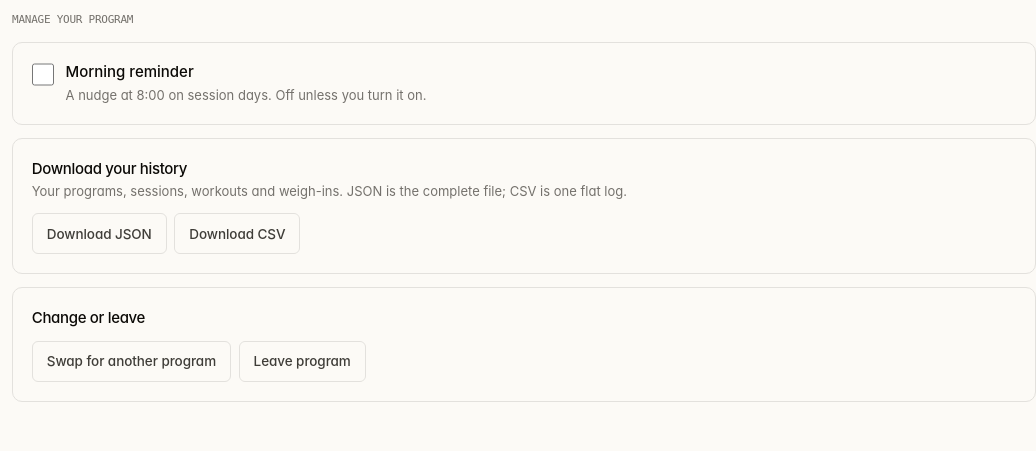
Test: StarterManage › shows an export failure
The width and height of the screenshot is (1036, 451).
Click the button "Download CSV" at x=237, y=234, box [174,213,300,254]
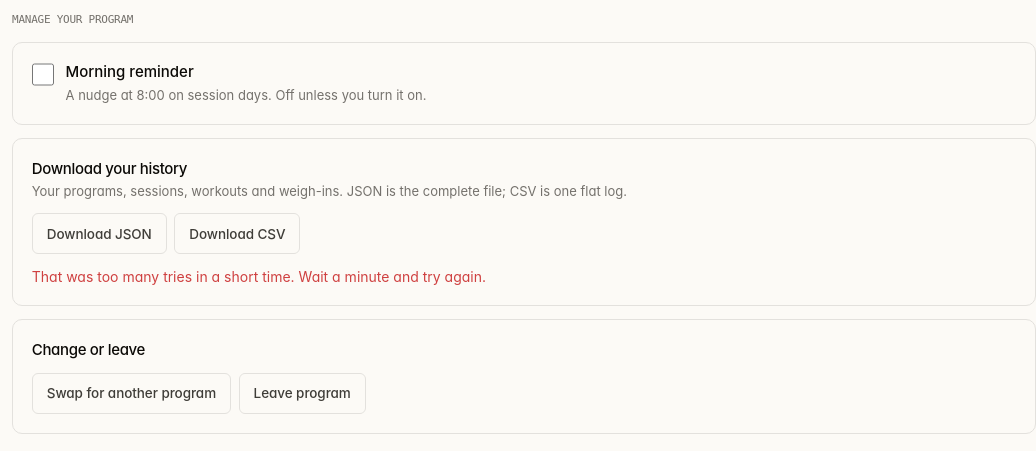
Expected: the message shows "too many", [32,268,486,284]
